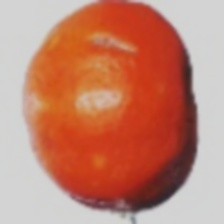tangerine: (4, 0, 206, 197)
